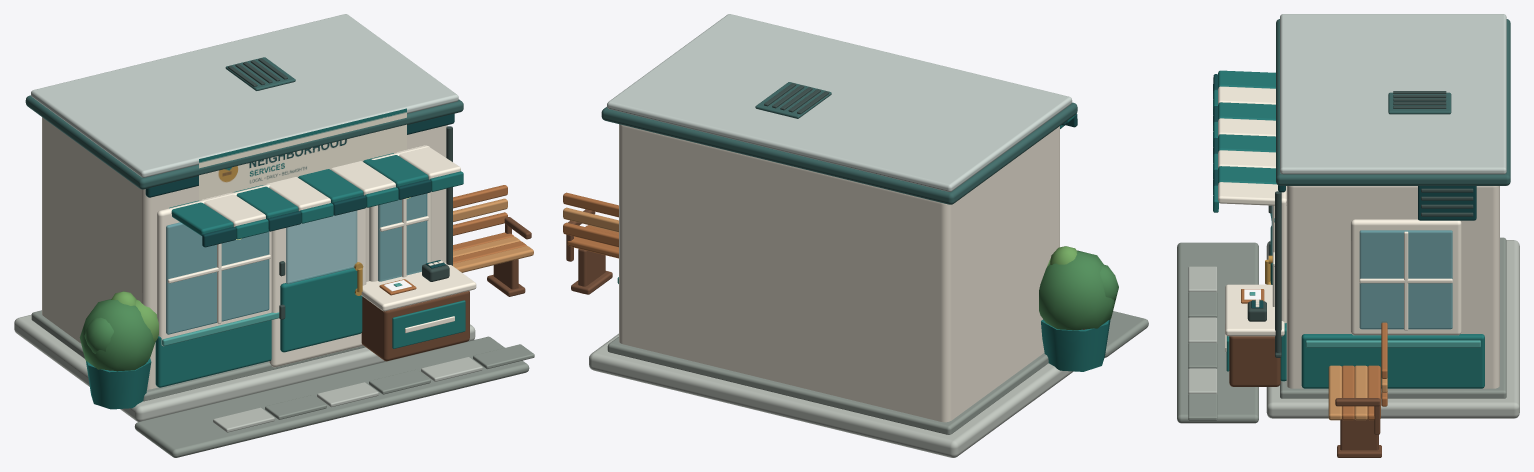
File: asset.glb
The picture shows the model from 3 angles, left to right: view 1: azimuth 30°, elevation 25°; view 2: azimuth 150°, elevation 25°; view 3: azimuth 270°, elevation 25°; orthographic projection. The views are drawn at different scales.
Parts seen in each view (by area): view 1: NeighborhoodServicesShop, StripedAwning, ServiceCounter, NeighborhoodServicesSign, Planter, ExteriorBench; view 2: NeighborhoodServicesShop, Planter, ExteriorBench; view 3: NeighborhoodServicesShop, StripedAwning, ServiceCounter, ExteriorBench.
Boxes of the visible parts, x1=… form: NeighborhoodServicesShop: x1=14, y1=14, x2=534, y2=457; StripedAwning: x1=169, y1=145, x2=463, y2=247; ServiceCounter: x1=361, y1=260, x2=476, y2=361; NeighborhoodServicesSign: x1=199, y1=108, x2=406, y2=200; Planter: x1=79, y1=291, x2=158, y2=409; ExteriorBench: x1=453, y1=185, x2=533, y2=296; NeighborhoodServicesShop: x1=589, y1=14, x2=1148, y2=457; Planter: x1=1039, y1=246, x2=1118, y2=371; ExteriorBench: x1=563, y1=192, x2=618, y2=294; NeighborhoodServicesShop: x1=1177, y1=14, x2=1519, y2=423; StripedAwning: x1=1213, y1=70, x2=1286, y2=212; ServiceCounter: x1=1225, y1=284, x2=1284, y2=386; ExteriorBench: x1=1328, y1=322, x2=1387, y2=457.
Size of the model in its own units: 6.71 by 3.45 by 4.27.
23 materials, 1 textured.
